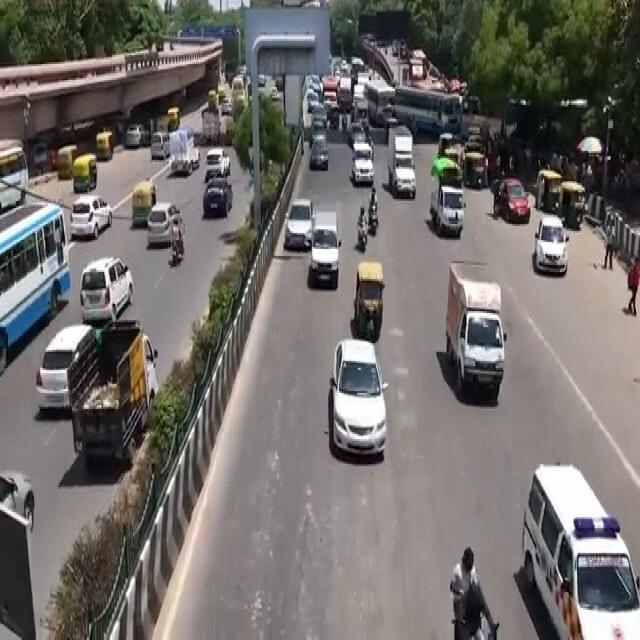three_wheeler: (345, 247, 386, 340)
